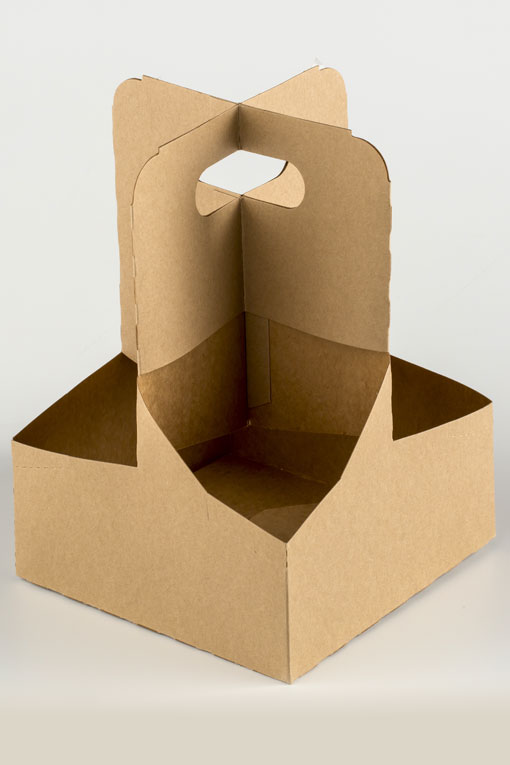Rec_Paper: (1, 56, 486, 701)
